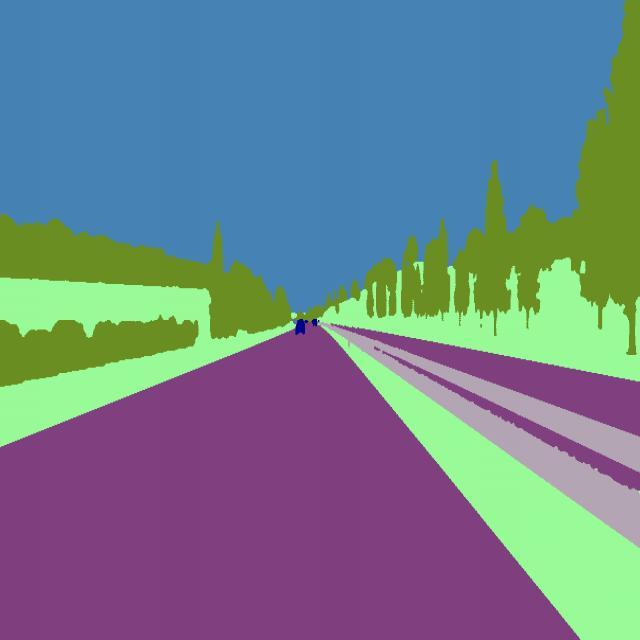safe: (292, 314, 310, 339), (308, 316, 320, 328)
